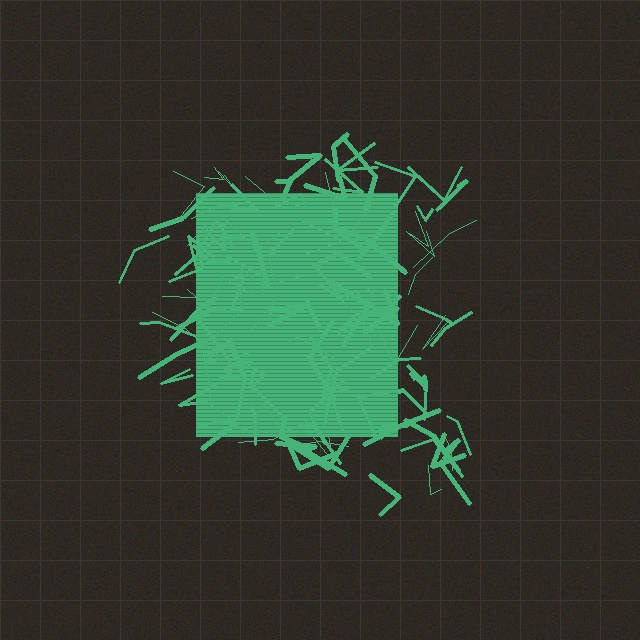spaghetti: (156, 143, 457, 486)
